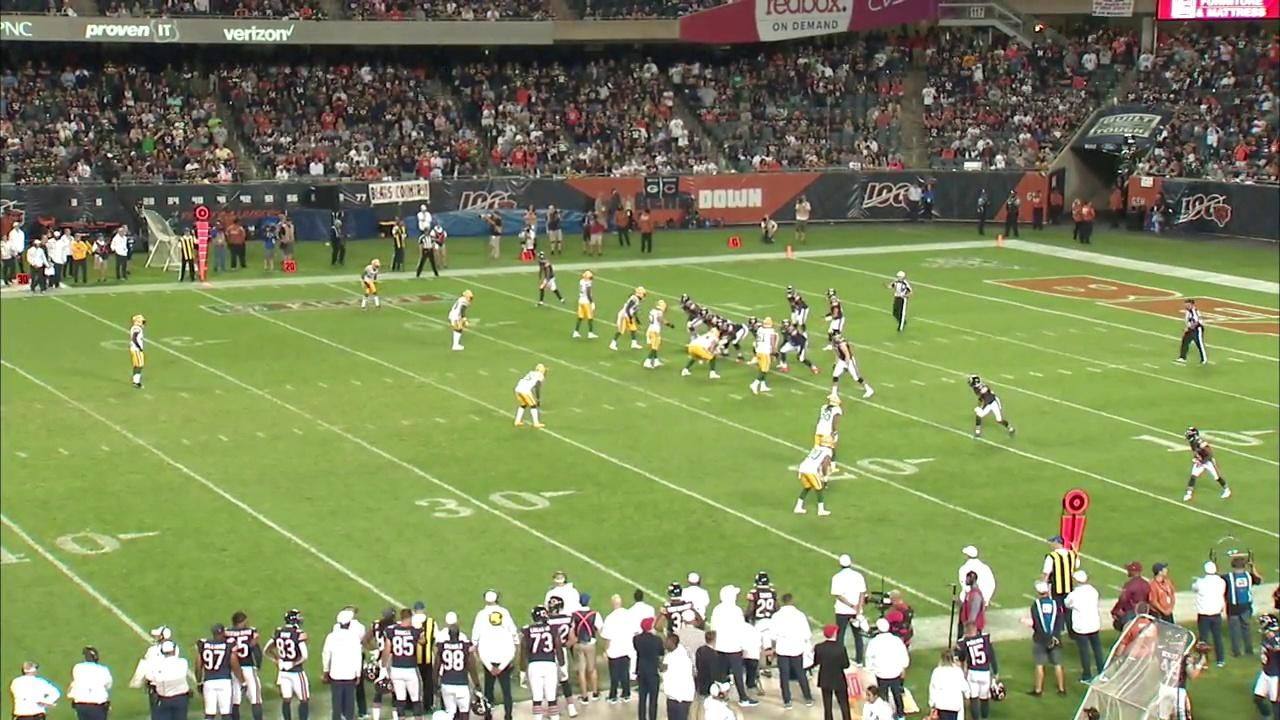player: (789, 432, 839, 518), (1180, 425, 1233, 503), (823, 326, 875, 401), (966, 373, 1018, 442), (747, 315, 781, 397), (609, 285, 649, 352), (811, 394, 844, 475), (775, 318, 820, 376), (511, 361, 549, 429), (642, 298, 676, 372), (680, 327, 722, 380), (571, 270, 601, 341), (818, 286, 848, 353), (532, 251, 566, 310), (446, 289, 475, 352), (128, 313, 150, 391), (677, 292, 707, 349), (714, 317, 750, 363), (747, 316, 780, 365), (784, 284, 811, 342), (358, 258, 383, 313), (698, 306, 732, 345)
ref: (1172, 295, 1210, 366), (881, 269, 915, 335), (412, 226, 444, 281)
